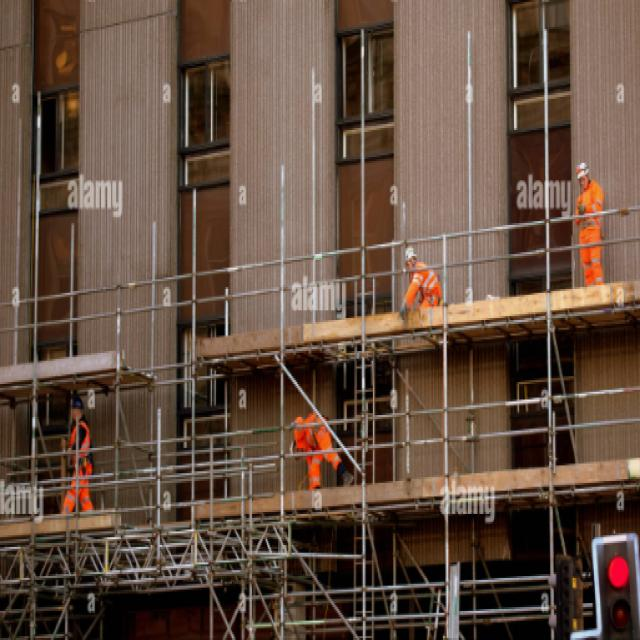hard_hat: (576, 162, 590, 190), (403, 245, 417, 271), (70, 396, 84, 422), (289, 440, 299, 460)
shoes: (306, 471, 354, 508)
vest: (572, 178, 604, 229), (404, 260, 440, 304), (68, 421, 92, 469), (293, 414, 321, 450)
